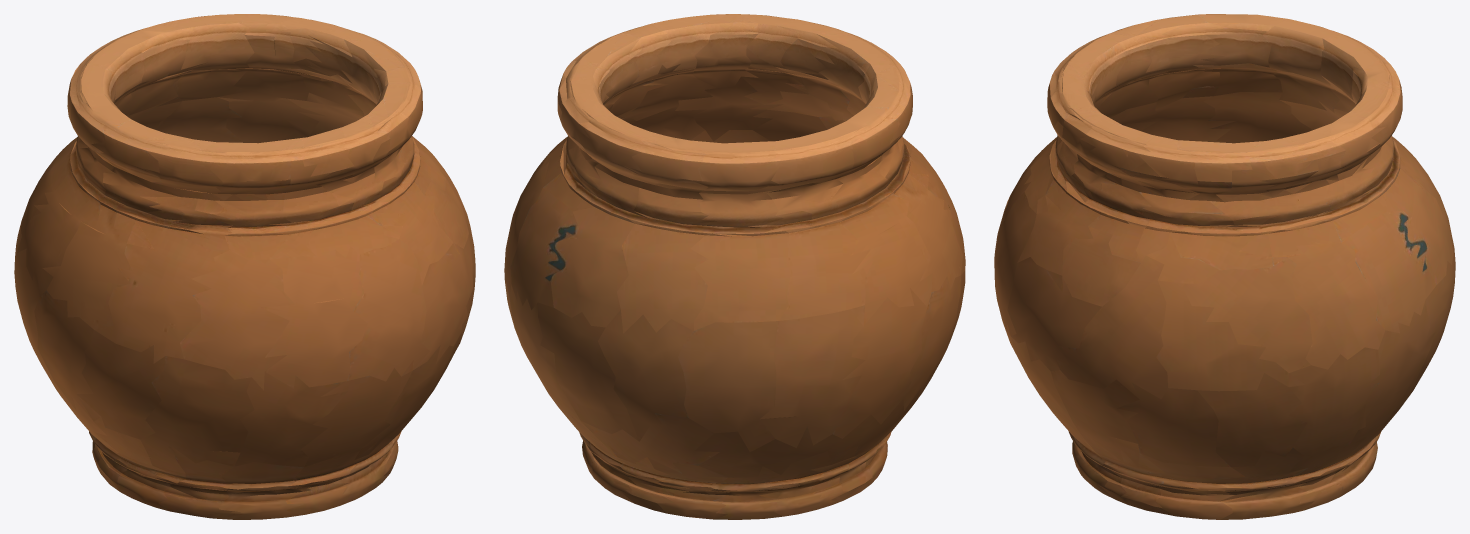
The model's file is amphora-planter.glb.
3 renders of one model, left to right at view 1: azimuth 30°, elevation 25°; view 2: azimuth 150°, elevation 25°; view 3: azimuth 270°, elevation 25°, orthographic.
Visible parts, largest first — view 1: amphora-planter; view 2: amphora-planter; view 3: amphora-planter.
Part boxes in pixels (box(x1,y1,x2,y2)): amphora-planter: box(14, 14, 475, 519); amphora-planter: box(504, 14, 965, 519); amphora-planter: box(994, 14, 1455, 519).
Bounding box in the file's own units: 0.9505 × 0.8501 × 0.9505.
1 material, 1 textured.
